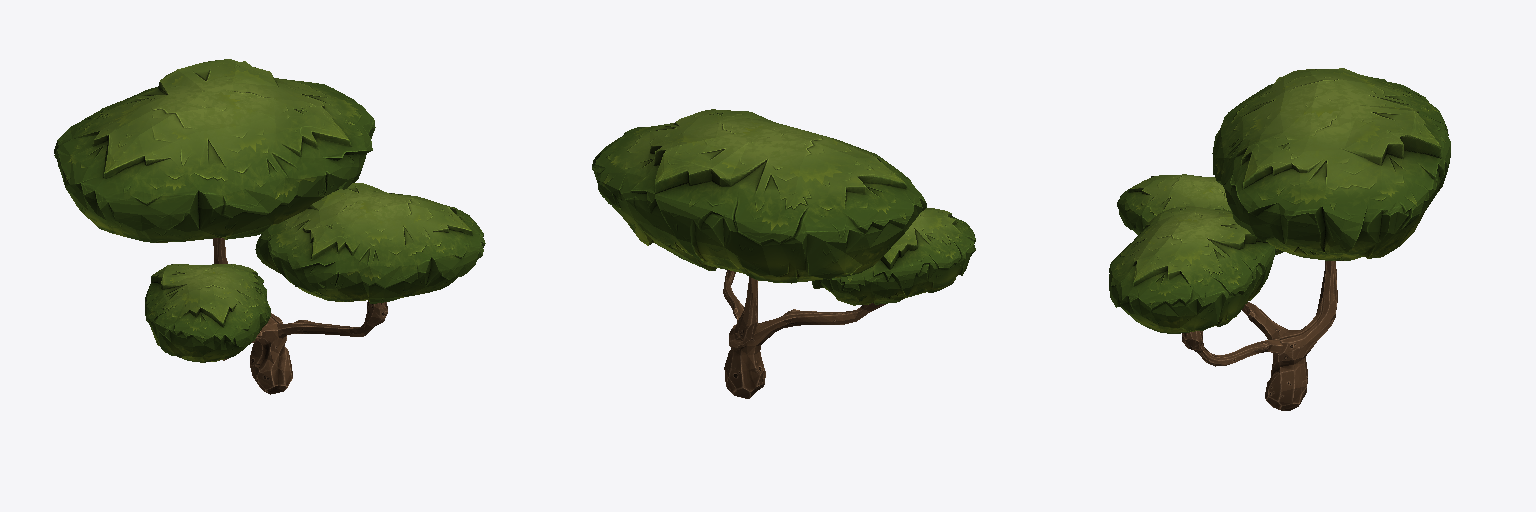
The picture shows the model from 3 angles: view 1: azimuth 30°, elevation 25°; view 2: azimuth 150°, elevation 25°; view 3: azimuth 270°, elevation 25°; orthographic projection.
Parts seen in each view (by area): view 1: obj2, obj1; view 2: obj2, obj1; view 3: obj2, obj1.
Boxes of the visible parts, box(x1,y1,x2,y2) form: obj2: box(54, 59, 485, 362); obj1: box(213, 238, 387, 394); obj2: box(592, 109, 975, 305); obj1: box(723, 270, 885, 398); obj2: box(1109, 68, 1450, 333); obj1: box(1182, 261, 1337, 410).
Bounding box in the file's own units: 4.46 × 3.73 × 4.01.
2 materials, 2 textured.